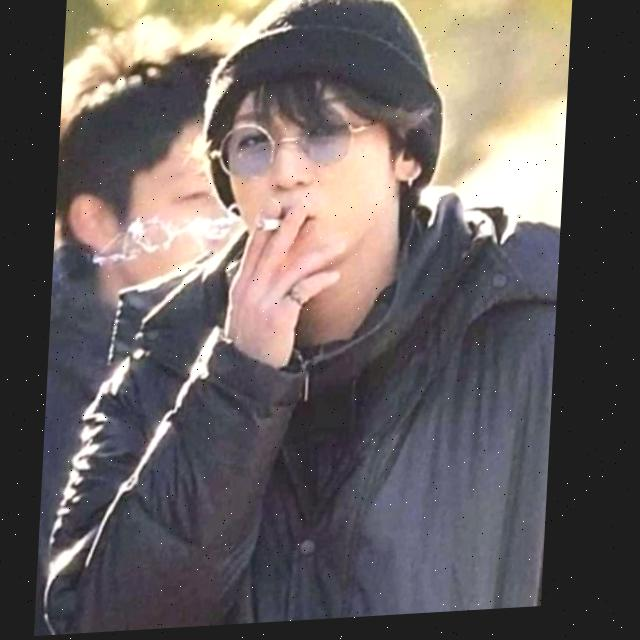cigarette: (257, 222, 285, 236)
